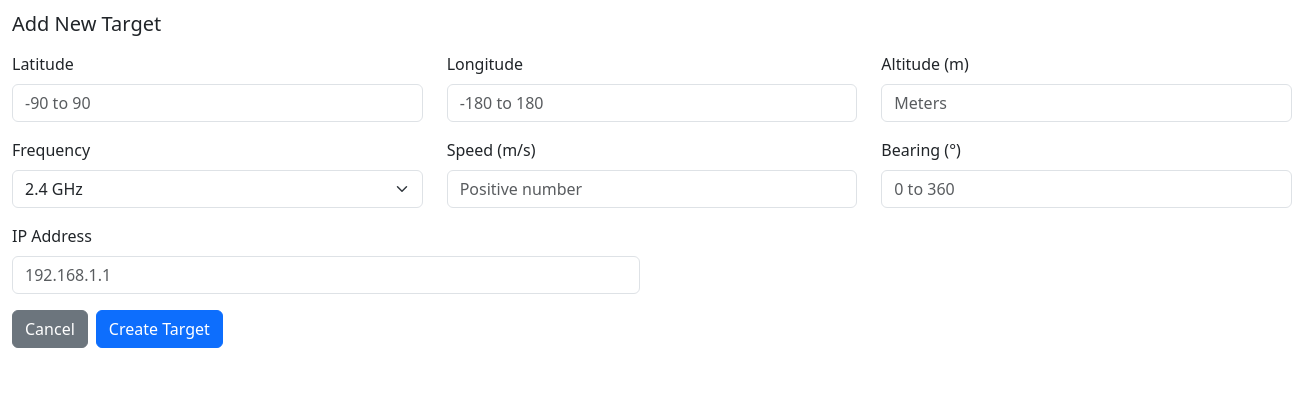
Test: TargetForm › Validation › shows error for invalid IP address
The image size is (1304, 394).
In the number field labelled "Latitude": [217, 103] box [12,84,423,122], type "32"
In the number field labelled "Longitude": [652, 103] box [447,84,857,122], type "34"
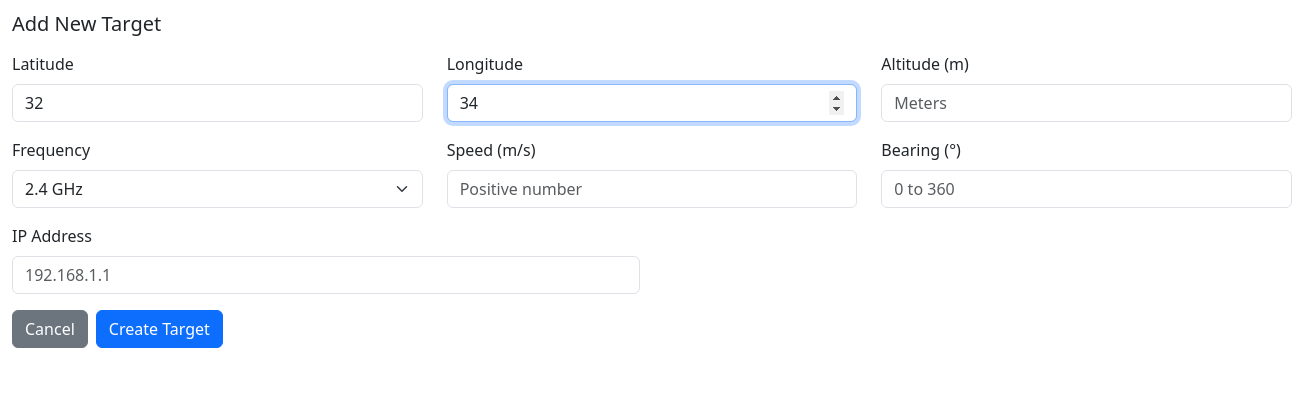
In the number field labelled "Altitude (m)": [1087, 103] box [881,84,1292,122], type "100"
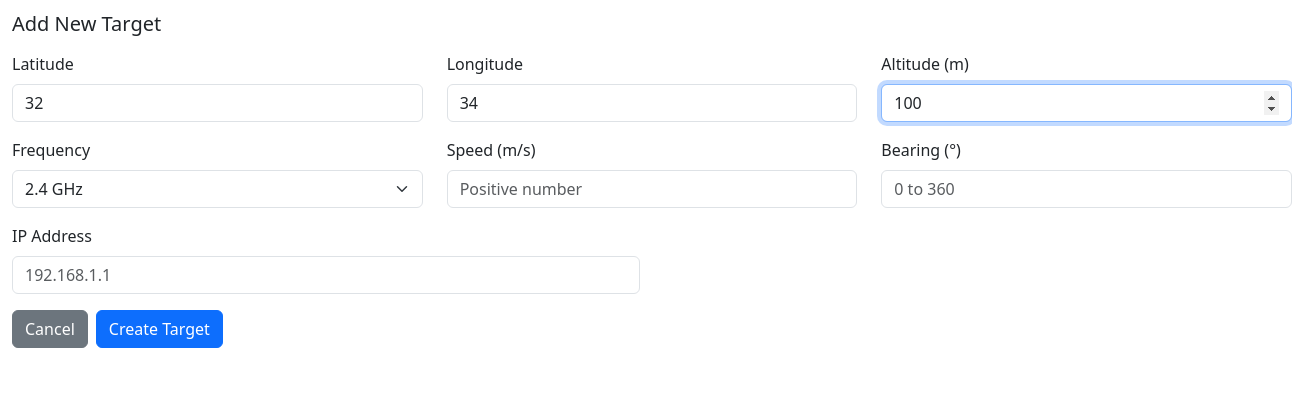
In the number field labelled "Speed (m/s)": [652, 189] box [447,170,857,208], type "25"
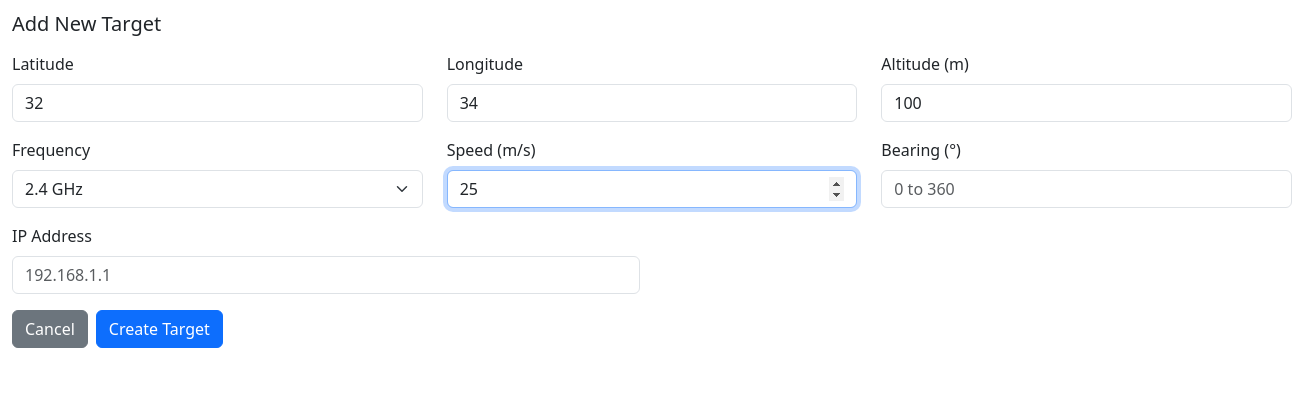
In the number field labelled "Bearing (°)": [1087, 189] box [881,170,1292,208], type "180"
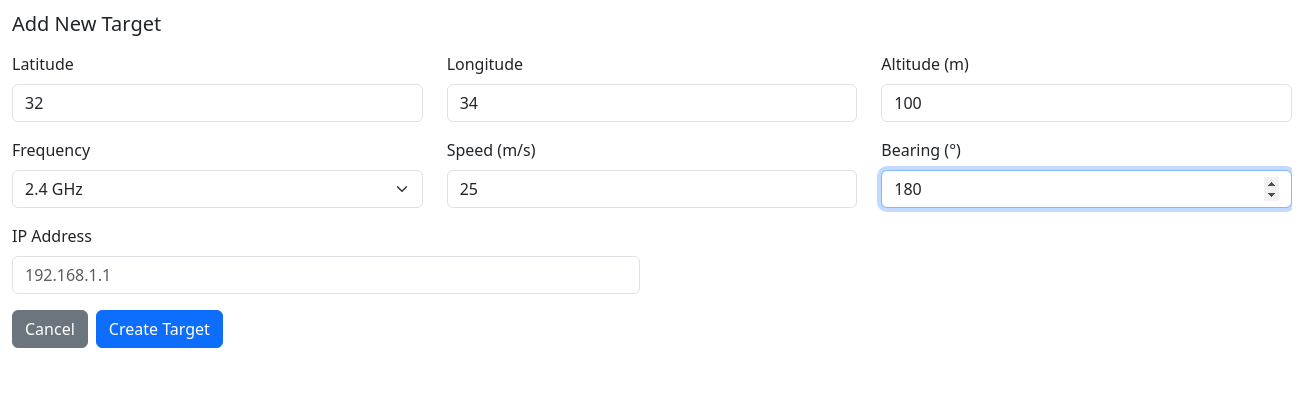
In the field labelled "IP Address": [326, 275] box [12,256,640,294], type "invalid-ip"
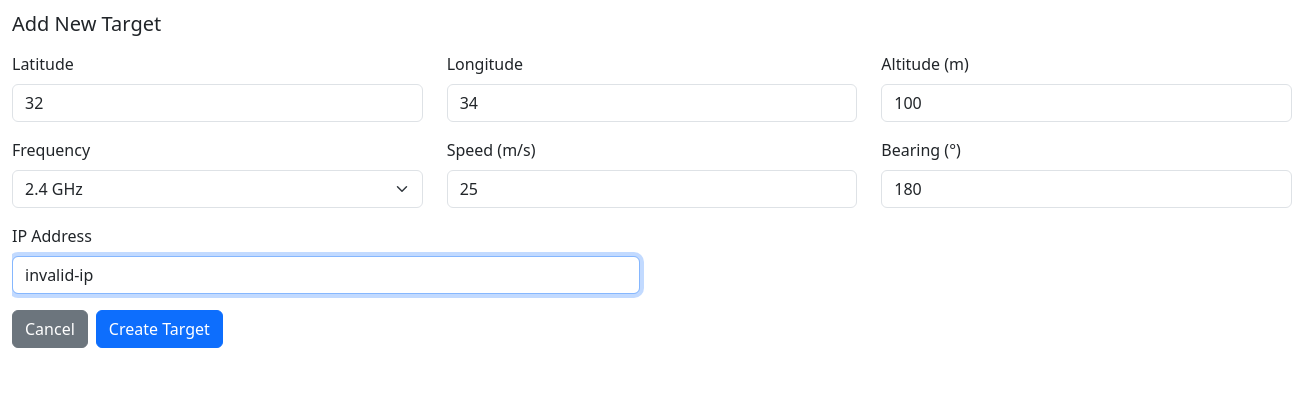
Click the button "Create Target": [159, 329] box [96,310,223,348]
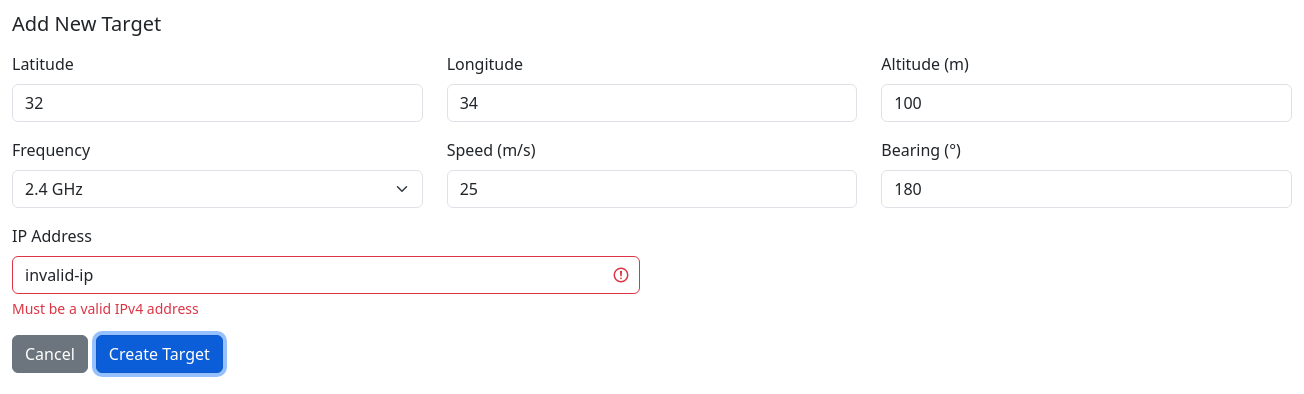
Now the text "Must be a valid IPv4 address" is shown, box [12,299,199,318]
